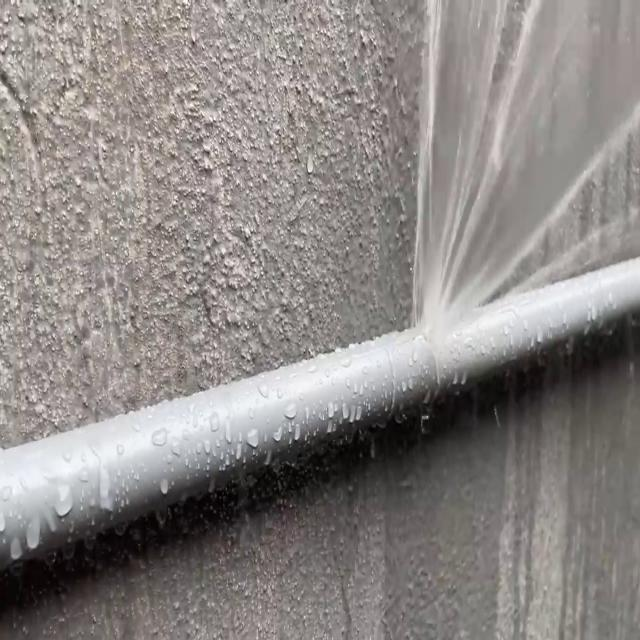leak: (414, 0, 640, 337)
